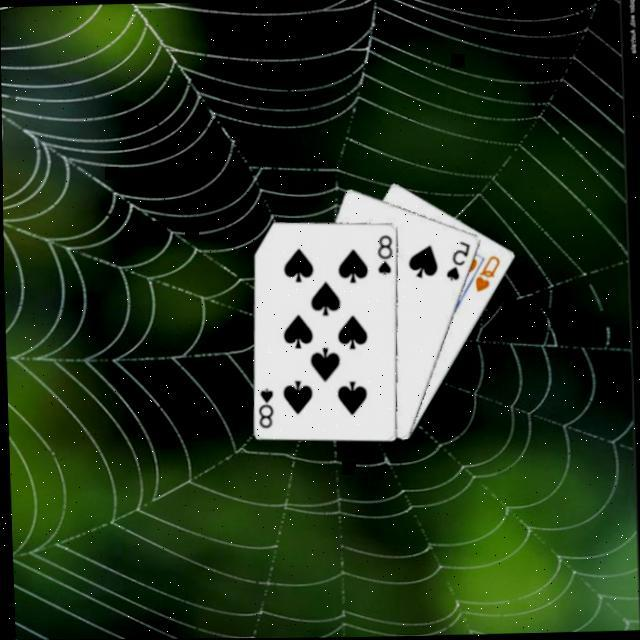5S: (439, 236, 473, 282)
8S: (252, 382, 275, 428), (372, 230, 394, 276)
QH: (468, 250, 502, 293)
